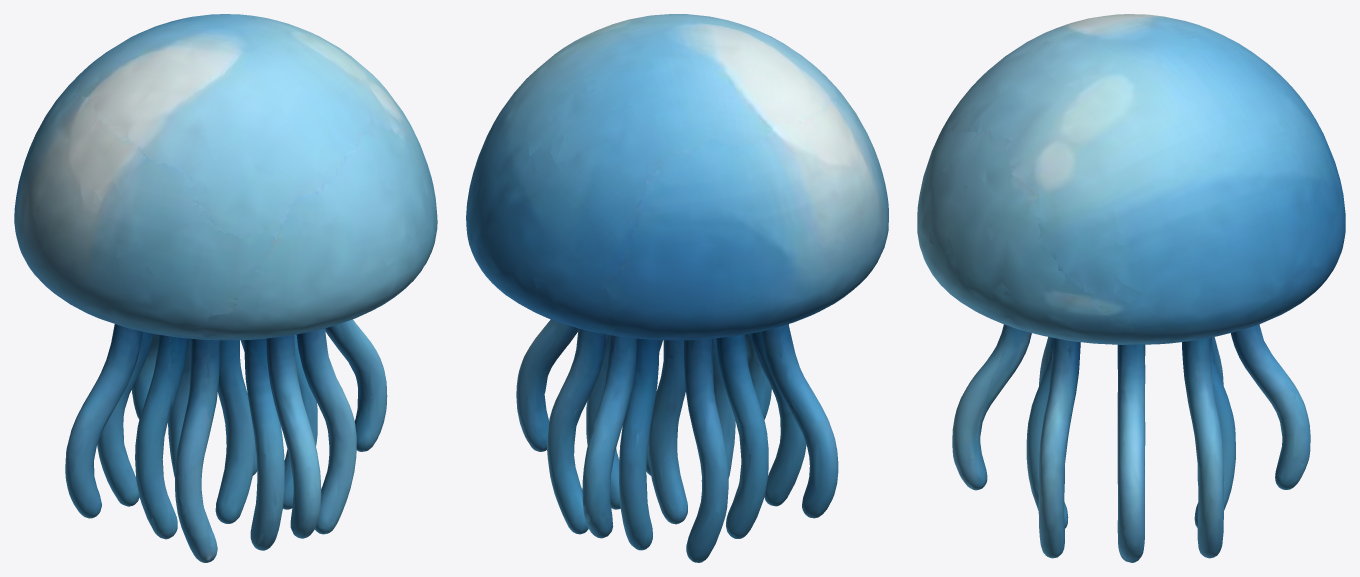
Rendered from jellyfish_pbr.glb.
3 renders of one model, left to right at view 1: azimuth 30°, elevation 25°; view 2: azimuth 150°, elevation 25°; view 3: azimuth 270°, elevation 25°, orthographic.
Parts seen in each view (by area): view 1: model.005; view 2: model.005; view 3: model.005.
Boxes of the visible parts, x1,y1,x2,y2 form: model.005: [14, 14, 437, 562]; model.005: [466, 14, 888, 562]; model.005: [917, 14, 1345, 562].
Size of the model in its own units: 0.9667 by 1.24 by 0.9681.
1 material, 1 textured.
